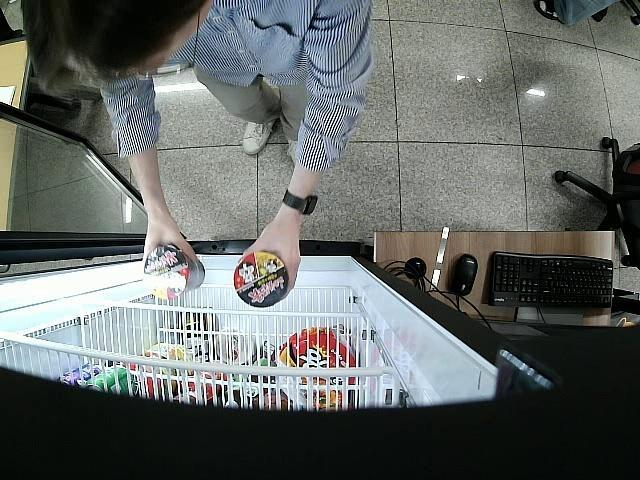08_buldak_S: (234, 252, 288, 308), (146, 248, 206, 298)
